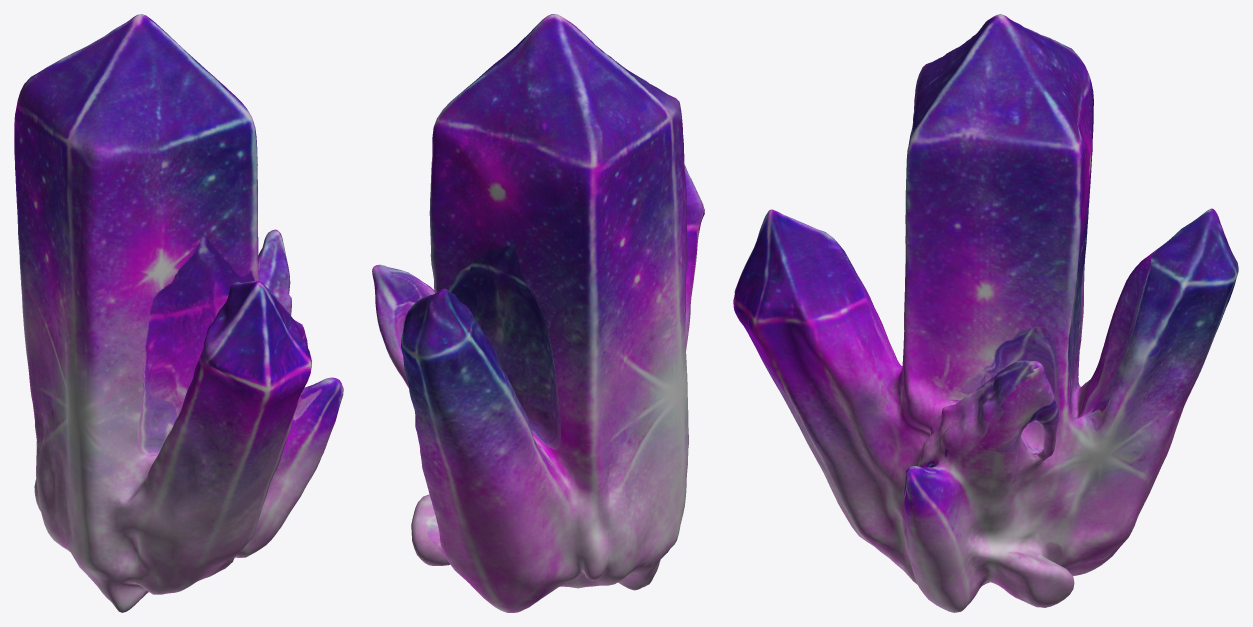
The model's file is 0623df230d89_a_purple_glowing_ga.fbx.
3 views of the same model, side by side, from view 1: azimuth 30°, elevation 25°; view 2: azimuth 150°, elevation 25°; view 3: azimuth 270°, elevation 25° (orthographic). The views are drawn at different scales.
Parts seen in each view (by area): view 1: mesh; view 2: mesh; view 3: mesh.
Boxes of the visible parts, x1,y1,x2,y2 form: mesh: (14,14,343,612); mesh: (372,14,704,612); mesh: (733,14,1238,612).
Bounding box in the file's own units: 46.95 × 99.47 × 79.36.
